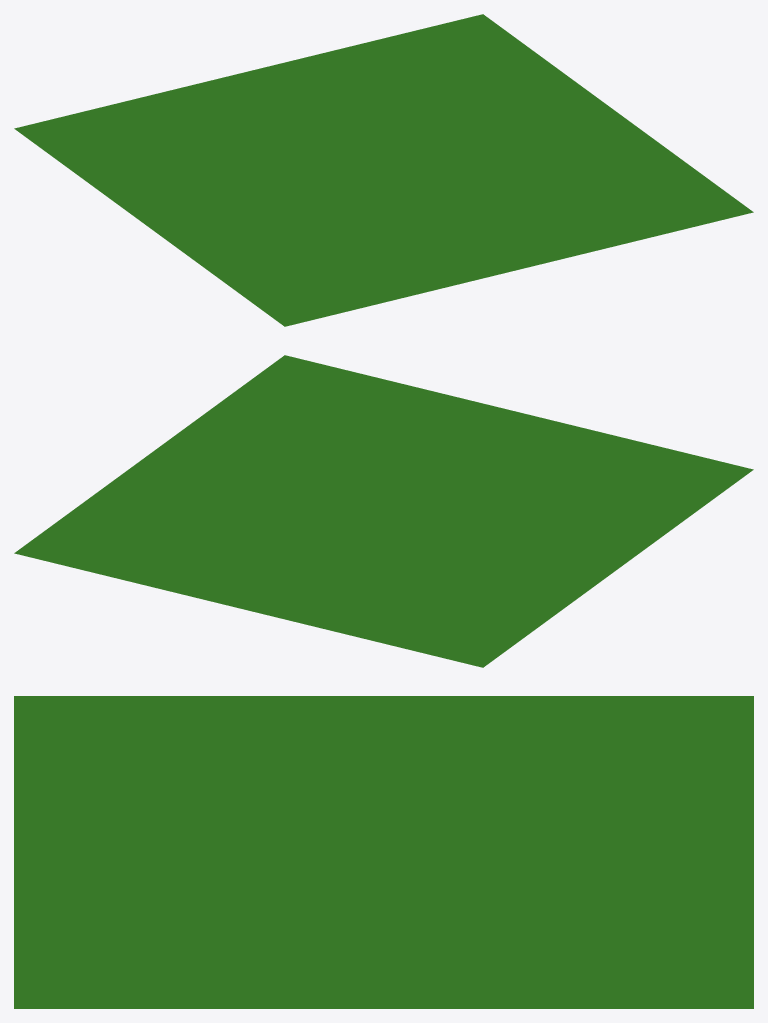
File: TerrainTest2.glb
3 renders of one model, top to bottom at view 1: azimuth 30°, elevation 25°; view 2: azimuth 150°, elevation 25°; view 3: azimuth 270°, elevation 25°, orthographic. The views are drawn at different scales.
Parts seen in each view (by area): view 1: Grid.002, Grid.013, Grid.005, Grid.010, Grid.007, Grid.008, Grid, Grid.001, Grid.006, Grid.009, Grid.014, Grid.015 (+4 smaller); view 2: Grid.001, Grid.014, Grid.006, Grid.009, Grid.004, Grid.011, Grid.002, Grid.003, Grid.005, Grid.010, Grid.012, Grid.013 (+4 smaller); view 3: Grid, Grid.001, Grid.002, Grid.003, Grid.004, Grid.005, Grid.006, Grid.007, Grid.008, Grid.009, Grid.010, Grid.011 (+4 smaller).
Boxes of the visible parts, x1,y1,x2,y2 form: Grid.002: [452, 191, 635, 269]; Grid.013: [132, 71, 315, 149]; Grid.005: [267, 170, 450, 248]; Grid.010: [317, 92, 500, 170]; Grid.007: [501, 113, 685, 191]; Grid.008: [82, 149, 266, 227]; Grid: [217, 248, 401, 326]; Grid.001: [335, 220, 518, 297]; Grid.006: [384, 142, 568, 219]; Grid.009: [199, 121, 383, 198]; Grid.014: [249, 43, 432, 120]; Grid.015: [366, 14, 550, 92]; Grid.001: [452, 412, 635, 490]; Grid.014: [132, 532, 315, 610]; Grid.006: [267, 433, 450, 511]; Grid.009: [317, 511, 500, 589]; Grid.004: [501, 490, 685, 568]; Grid.011: [82, 454, 266, 532]; Grid.002: [335, 384, 518, 461]; Grid.003: [217, 355, 401, 433]; Grid.005: [384, 462, 568, 539]; Grid.010: [199, 483, 383, 560]; Grid.012: [366, 589, 550, 667]; Grid.013: [249, 561, 432, 638]; Grid: [14, 696, 198, 774]; Grid.001: [14, 774, 198, 852]; Grid.002: [14, 852, 198, 930]; Grid.003: [14, 930, 198, 1008]; Grid.004: [199, 696, 383, 774]; Grid.005: [199, 774, 383, 852]; Grid.006: [199, 852, 383, 930]; Grid.007: [199, 930, 383, 1008]; Grid.008: [384, 696, 568, 774]; Grid.009: [384, 774, 568, 852]; Grid.010: [384, 852, 568, 930]; Grid.011: [384, 930, 568, 1008].
Size of the model in its own units: 50 by 0 by 50.
